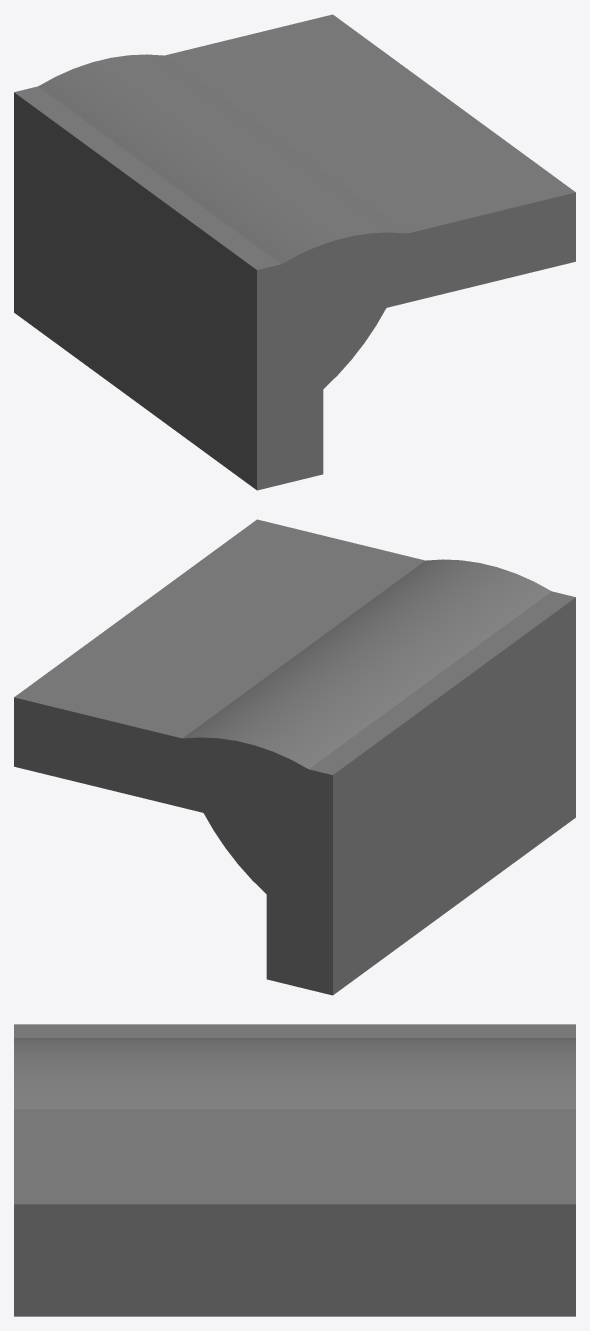
3 renders of one model, top to bottom at view 1: azimuth 30°, elevation 25°; view 2: azimuth 150°, elevation 25°; view 3: azimuth 270°, elevation 25°, orthographic. The views are drawn at different scales.
Parts seen in each view (by area): view 1: mesh_id4, mesh_id5; view 2: mesh_id4, mesh_id5; view 3: mesh_id4, mesh_id5.
Part boxes in pixels (x1,y1,x2,y2): mesh_id4: [14, 14, 575, 490]; mesh_id5: [38, 54, 407, 389]; mesh_id4: [14, 519, 575, 995]; mesh_id5: [182, 559, 551, 894]; mesh_id4: [14, 1024, 575, 1316]; mesh_id5: [14, 1038, 575, 1109].
Size of the model in its own units: 0.512 by 0.3546 by 0.6761.
Materials: 2 (2 with a texture image).
